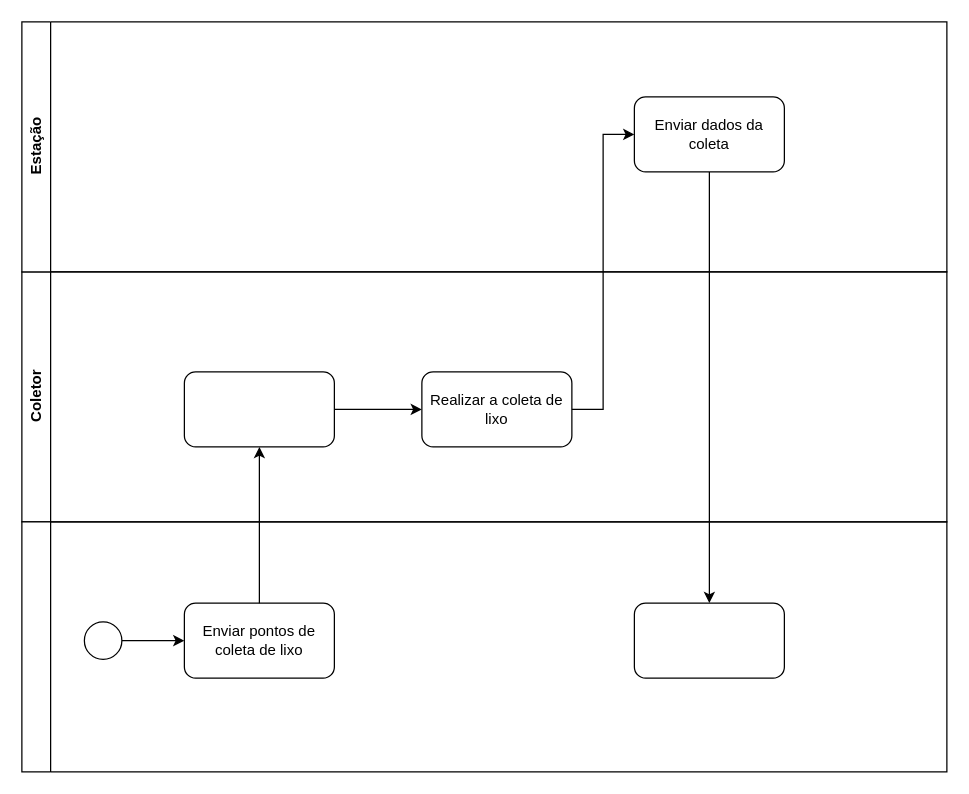
This 969x794 diagram has some shape labels left out. The shapes that lost their labels are listed below. From the top down, each one's box as (x1, y1, x2, y2) in pixels, then its label:
(183, 371, 334, 447): Deslocar até a area de coleta
(21, 521, 947, 772): Governo
(633, 602, 784, 678): Armazenar e atualizar dados de coleta de determinada região
